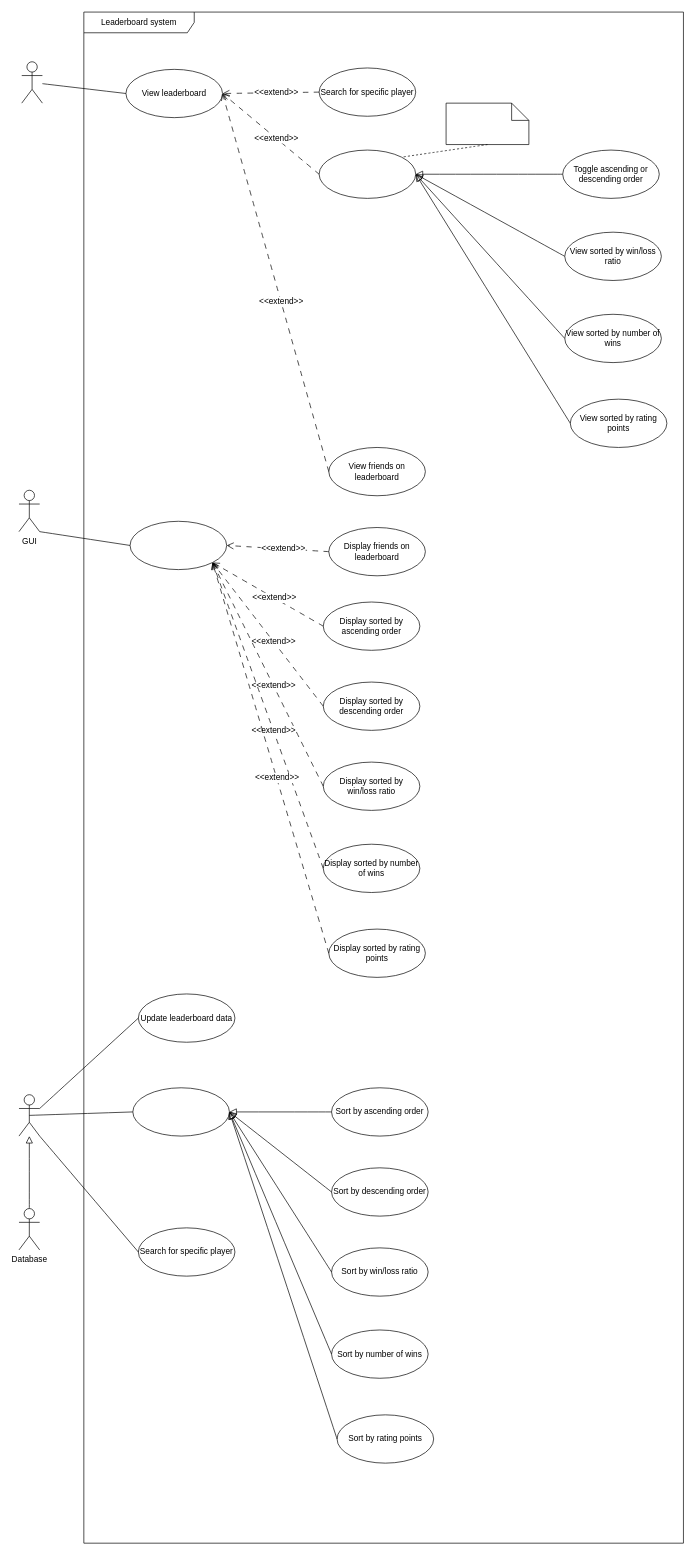
This 696x1555 diagram has some shape labels left out. Each missing label, with the centre of its shape:
Display leaderboard: point (178, 545)
Player: point (31, 82)
Server: point (29, 1115)
Sort leaderboard by different criteria: point (180, 1111)
Sorted by rating points by default: point (487, 123)
View sorted leaderboard by different criteria: point (367, 173)
